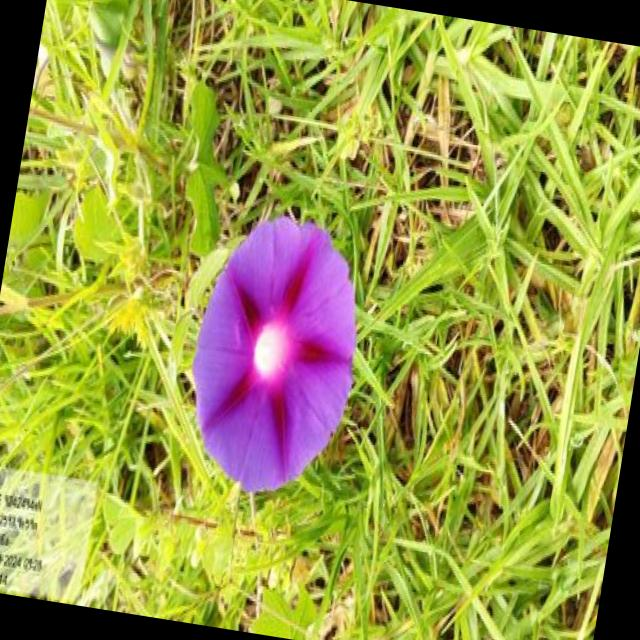ipomoea: (171, 201, 379, 510)
